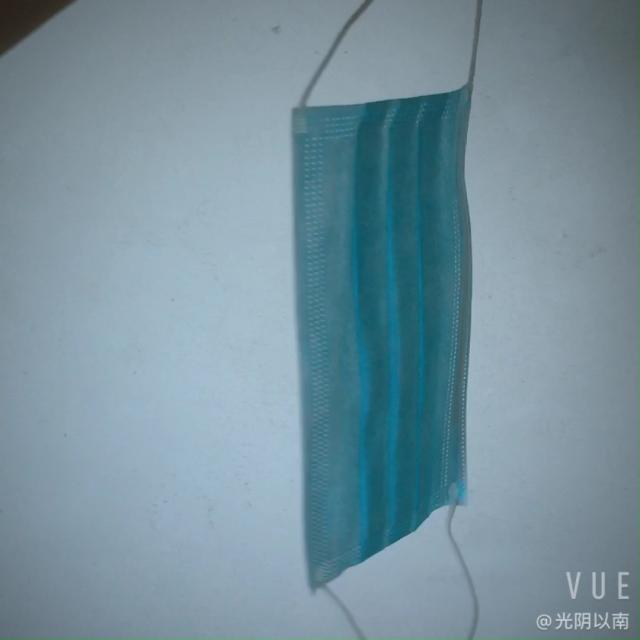non-organic waste: (256, 68, 506, 590)
